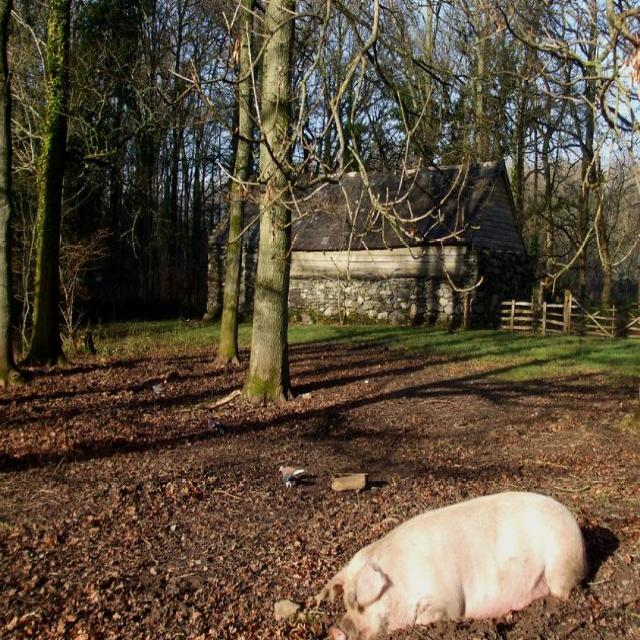pig: (316, 492, 586, 639)
